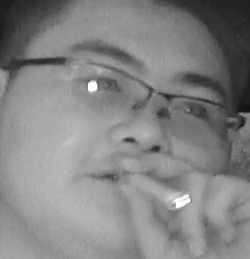eye: (178, 100, 207, 118)
glass: (65, 59, 154, 120), (163, 93, 236, 143)
